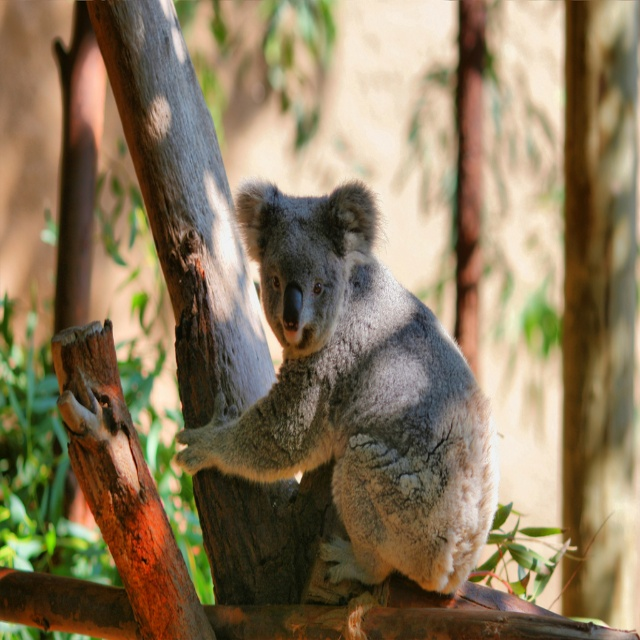Koala: (172, 180, 497, 600)
